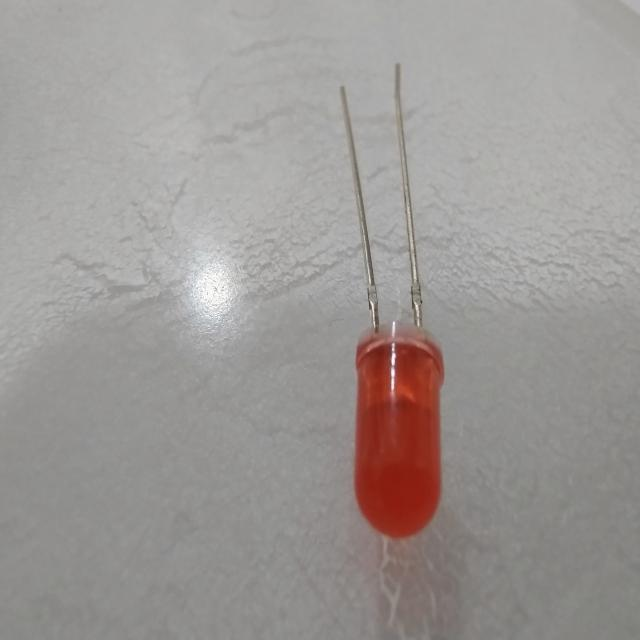red_led: (331, 313, 472, 556)
